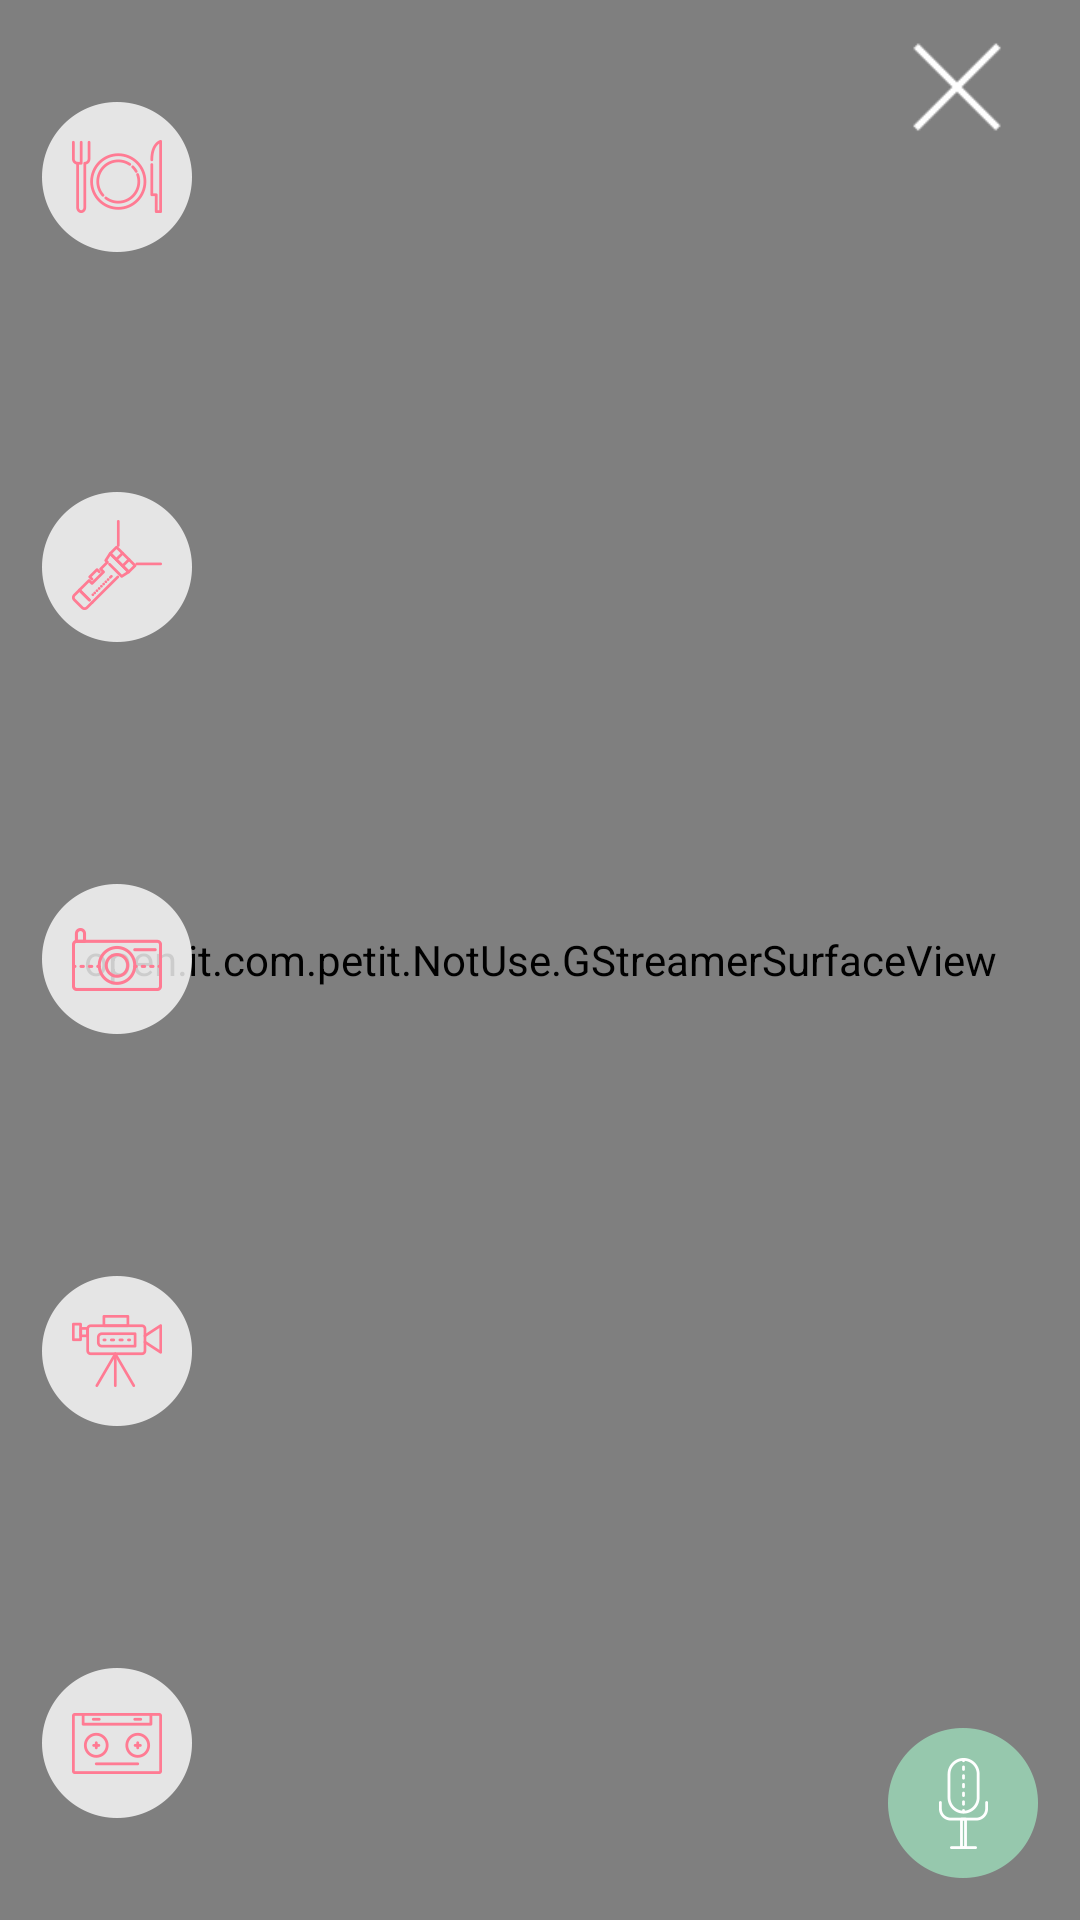

Point at icon controls on the screen. Image size 1080x1920, points as (x,y).
food mic on: (963,1803)
re close: (957,87)
